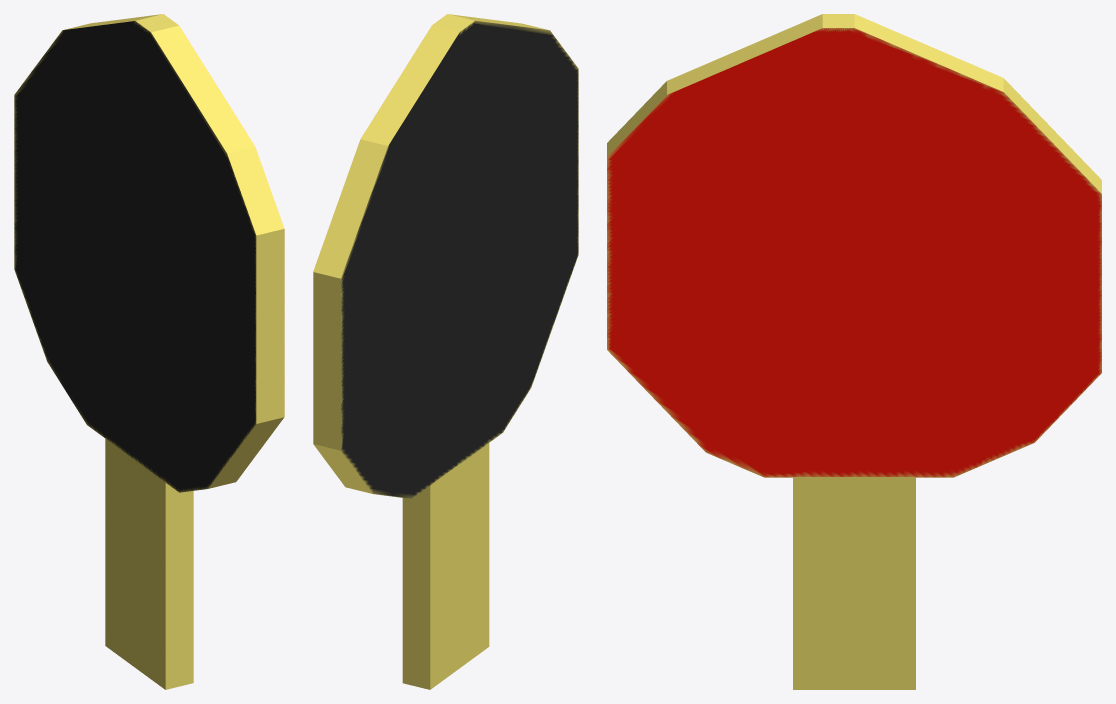
Rendered from racket.obj.
3 renders of one model, left to right at view 1: azimuth 30°, elevation 25°; view 2: azimuth 150°, elevation 25°; view 3: azimuth 270°, elevation 25°, orthographic. The views are drawn at different scales.
Visible parts, largest first — view 1: 立方体.001; view 2: 立方体.001; view 3: 立方体.001.
Part boxes in pixels (left/top/right/bottom): 立方体.001: left=14, top=14, right=284, bottom=689; 立方体.001: left=313, top=14, right=578, bottom=689; 立方体.001: left=607, top=14, right=1101, bottom=689.
Bounding box in the file's own units: 0.1275 × 2.79 × 1.89.
1 material, 1 textured.
